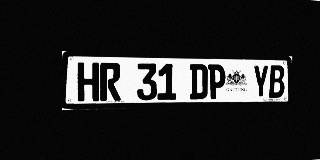1: (157, 63, 176, 100)
3: (137, 63, 157, 100)
B: (269, 65, 284, 98)
D: (190, 64, 208, 99)
H: (77, 62, 99, 101)
P: (208, 64, 225, 99)
R: (100, 63, 121, 101)
Y: (253, 65, 269, 98)
